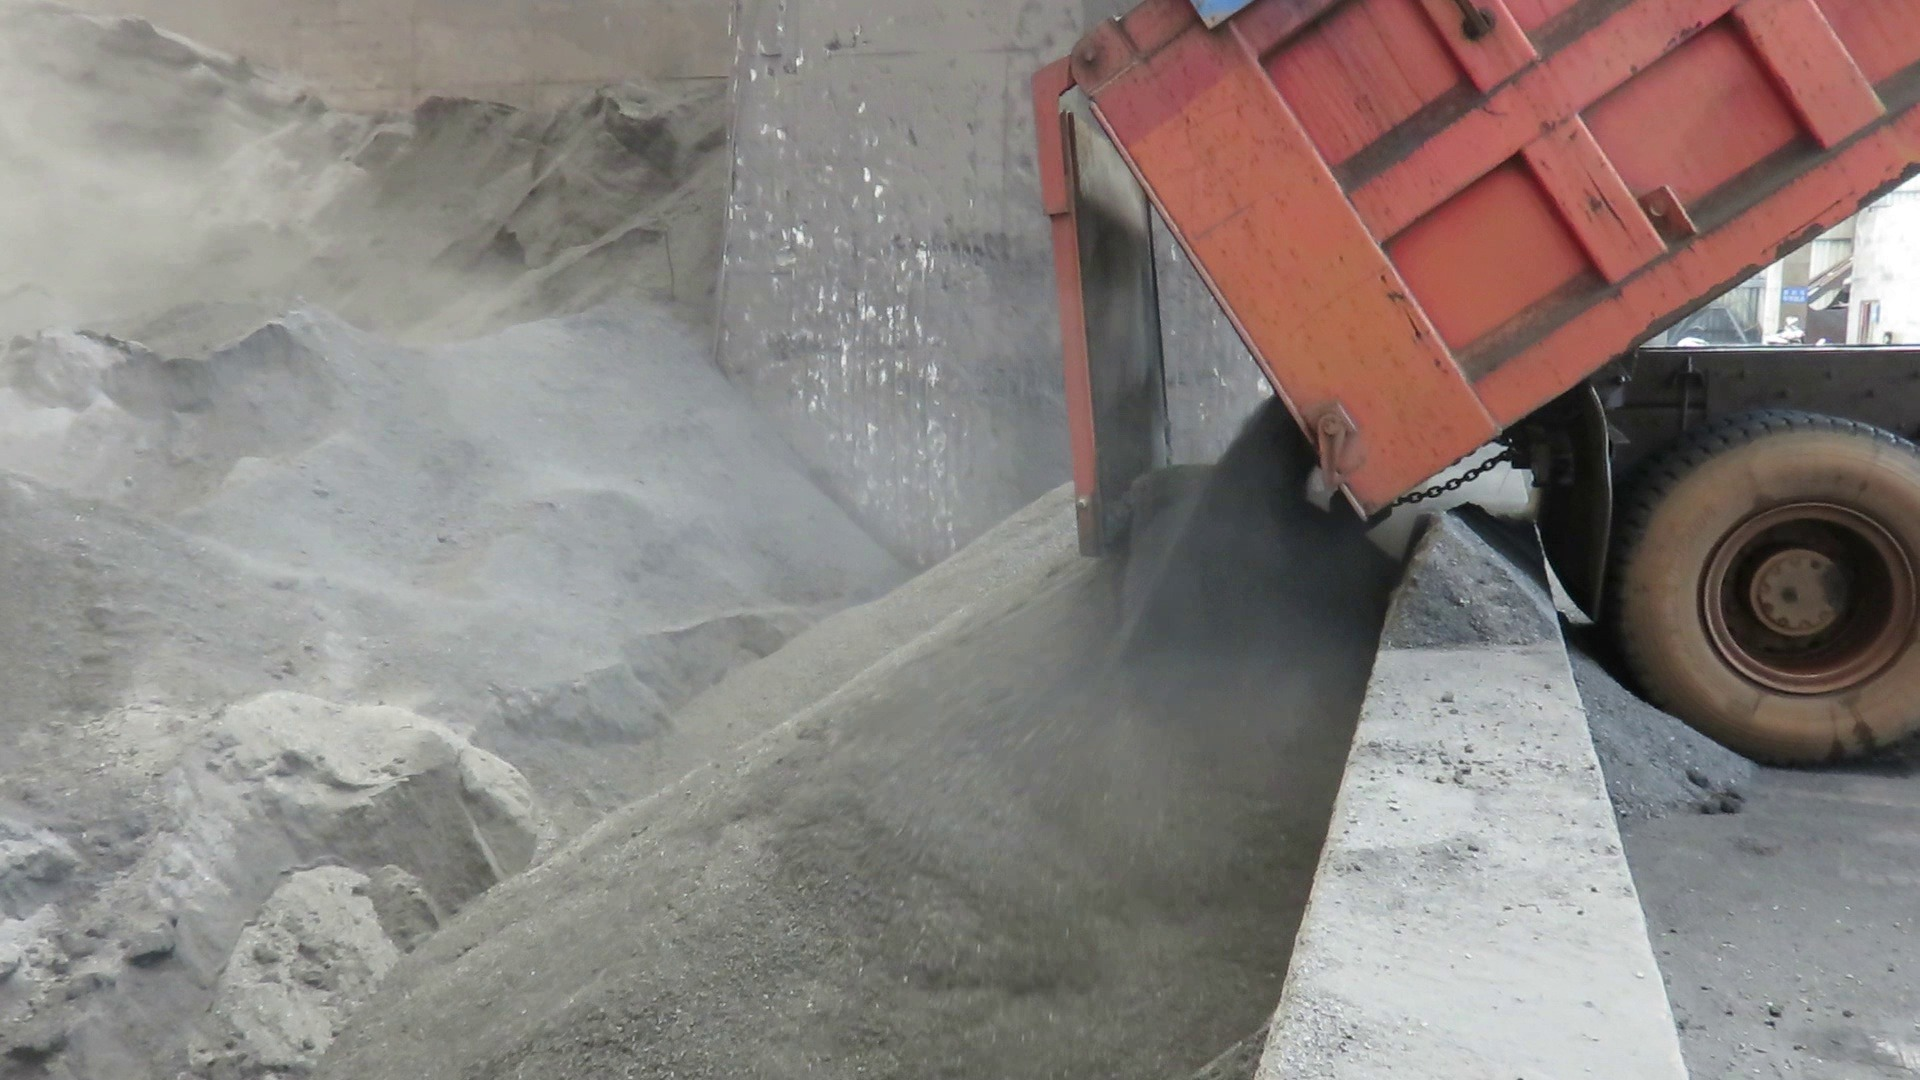dust: (5, 25, 1034, 847)
truck: (1025, 0, 1920, 791)
